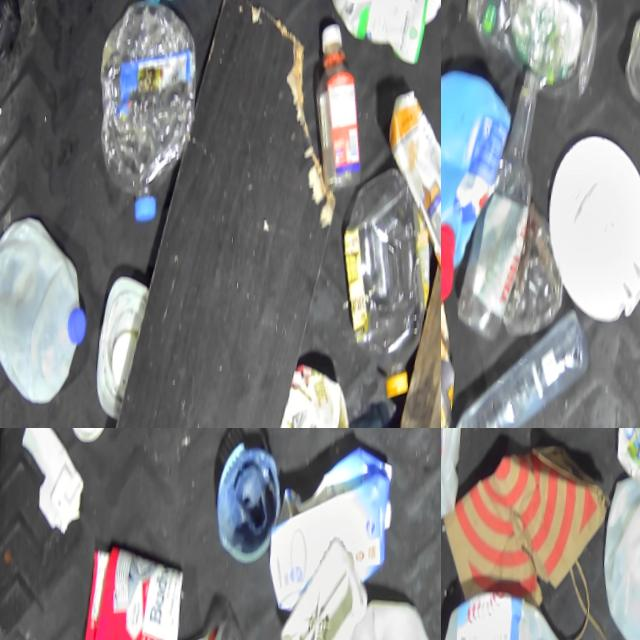milk_jug: (0, 210, 95, 418), (441, 588, 596, 640), (589, 488, 640, 640), (441, 428, 466, 567)
non_white_jug: (441, 76, 511, 309)
plastic_bottle: (443, 57, 551, 344), (93, 0, 204, 232), (326, 189, 435, 412), (441, 320, 594, 428)
